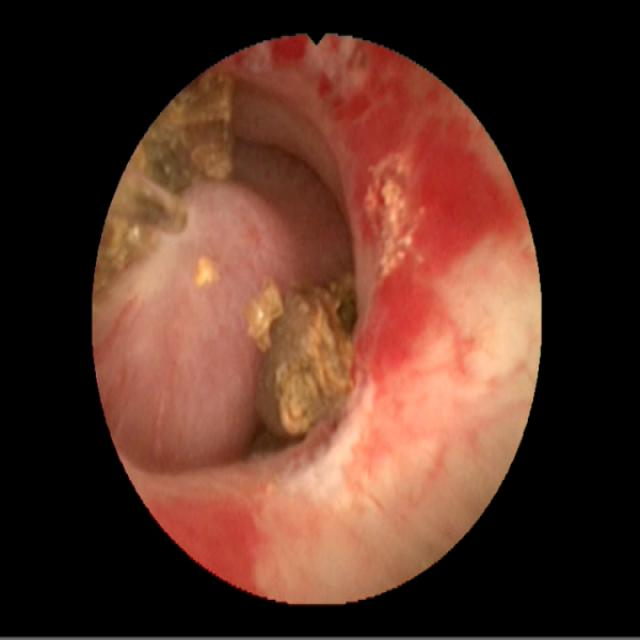stone: (96, 75, 234, 293), (248, 278, 354, 438), (193, 254, 219, 290)
tissue: (107, 43, 533, 592)
